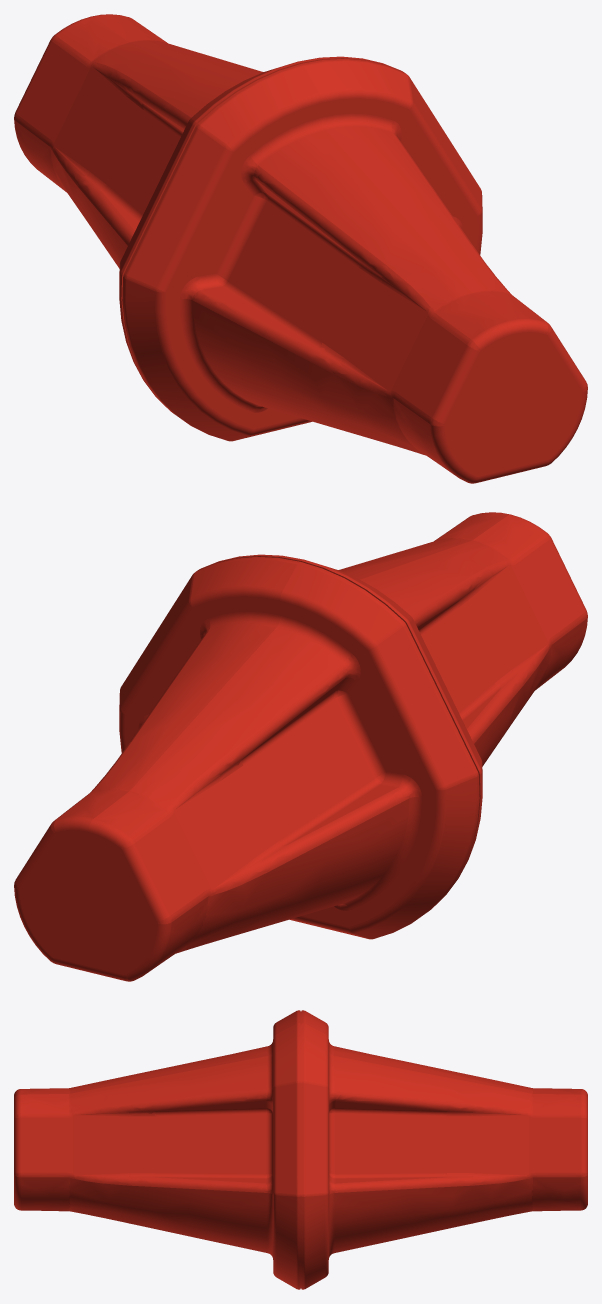
File: pin.obj
3 renders of one model, top to bottom at view 1: azimuth 30°, elevation 25°; view 2: azimuth 150°, elevation 25°; view 3: azimuth 270°, elevation 25°, orthographic. The views are drawn at different scales.
Bounding box in the file's own units: 0.0803 × 0.0768 × 0.165.
